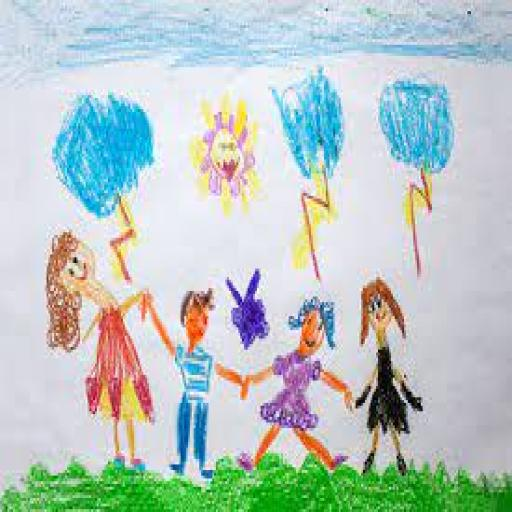person: (40, 228, 161, 482), (237, 290, 358, 474), (138, 276, 245, 480), (346, 277, 432, 482)
